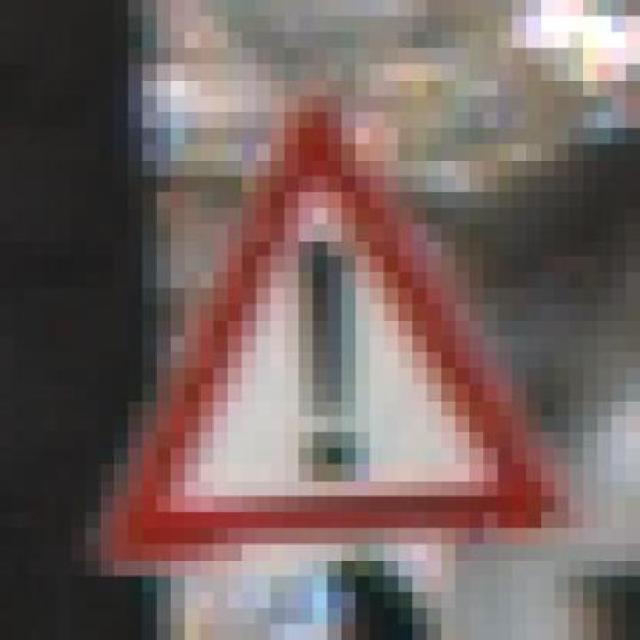Attention Please-: (52, 94, 578, 574)
